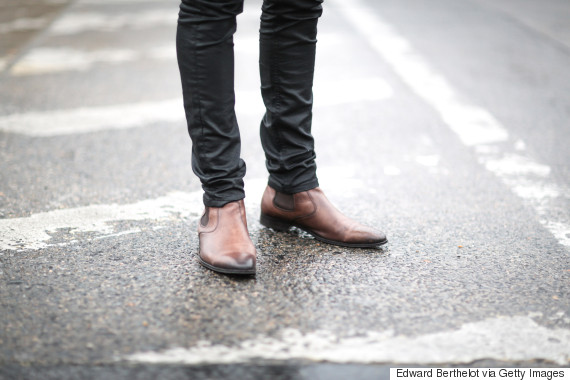jeans: (175, 1, 340, 206)
